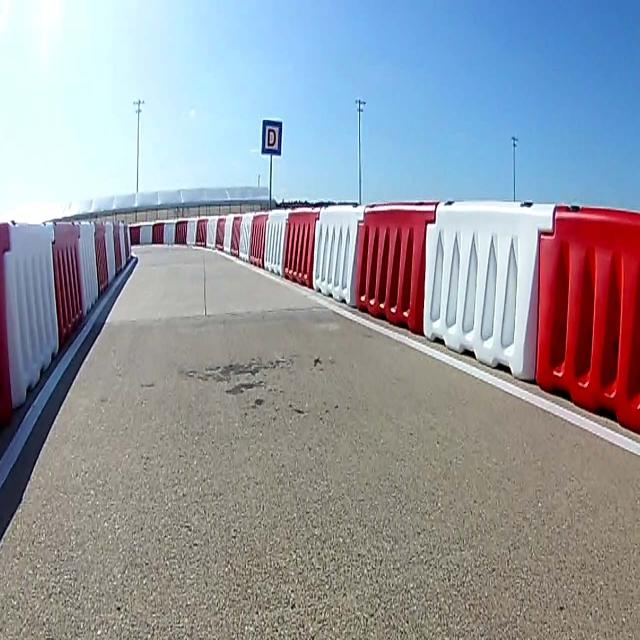durak: (261, 120, 283, 156)
